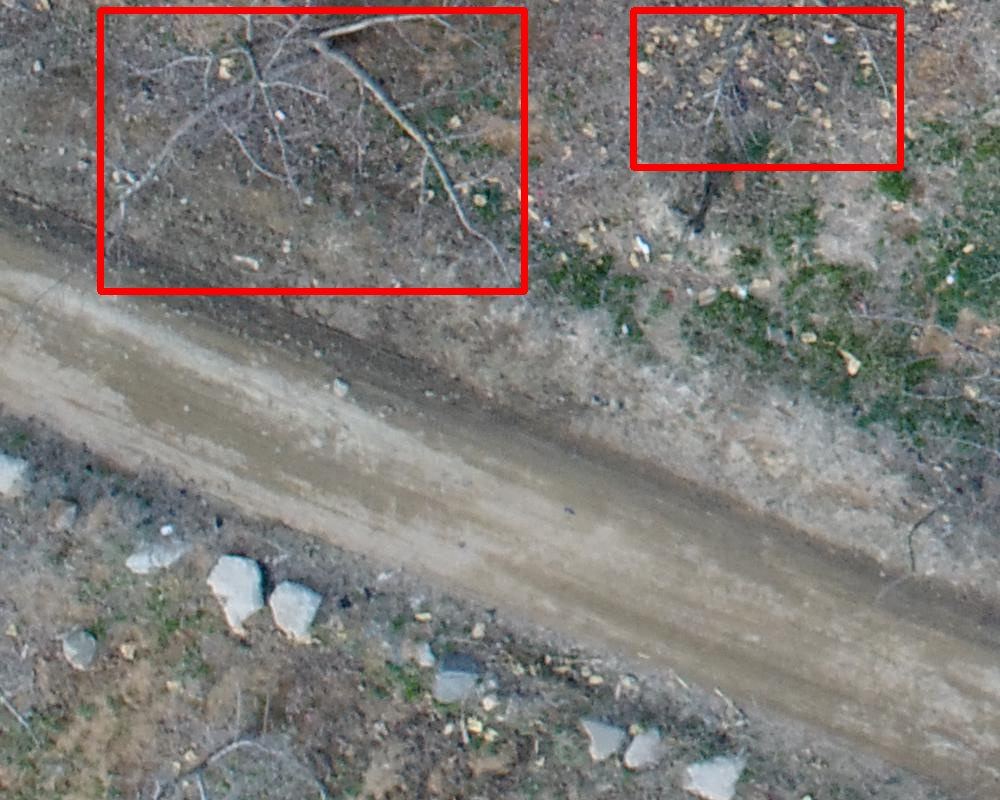apple: (100, 10, 524, 291), (633, 10, 900, 167)
